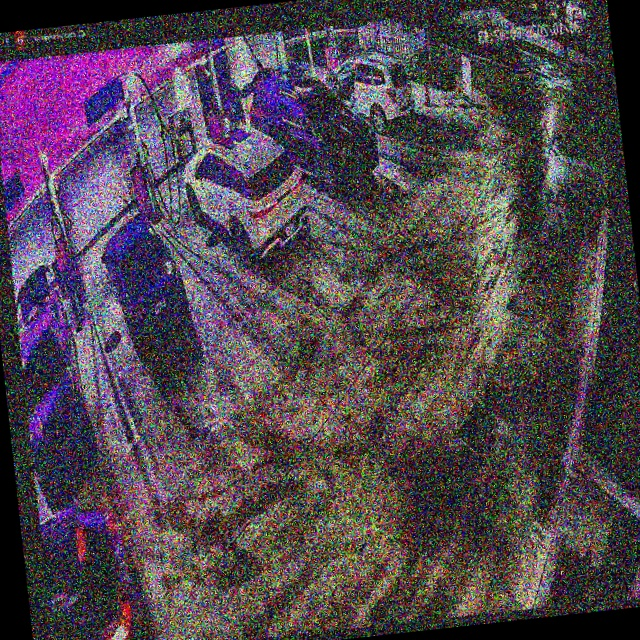Car: (177, 118, 310, 267), (245, 64, 382, 197), (99, 211, 192, 357)
